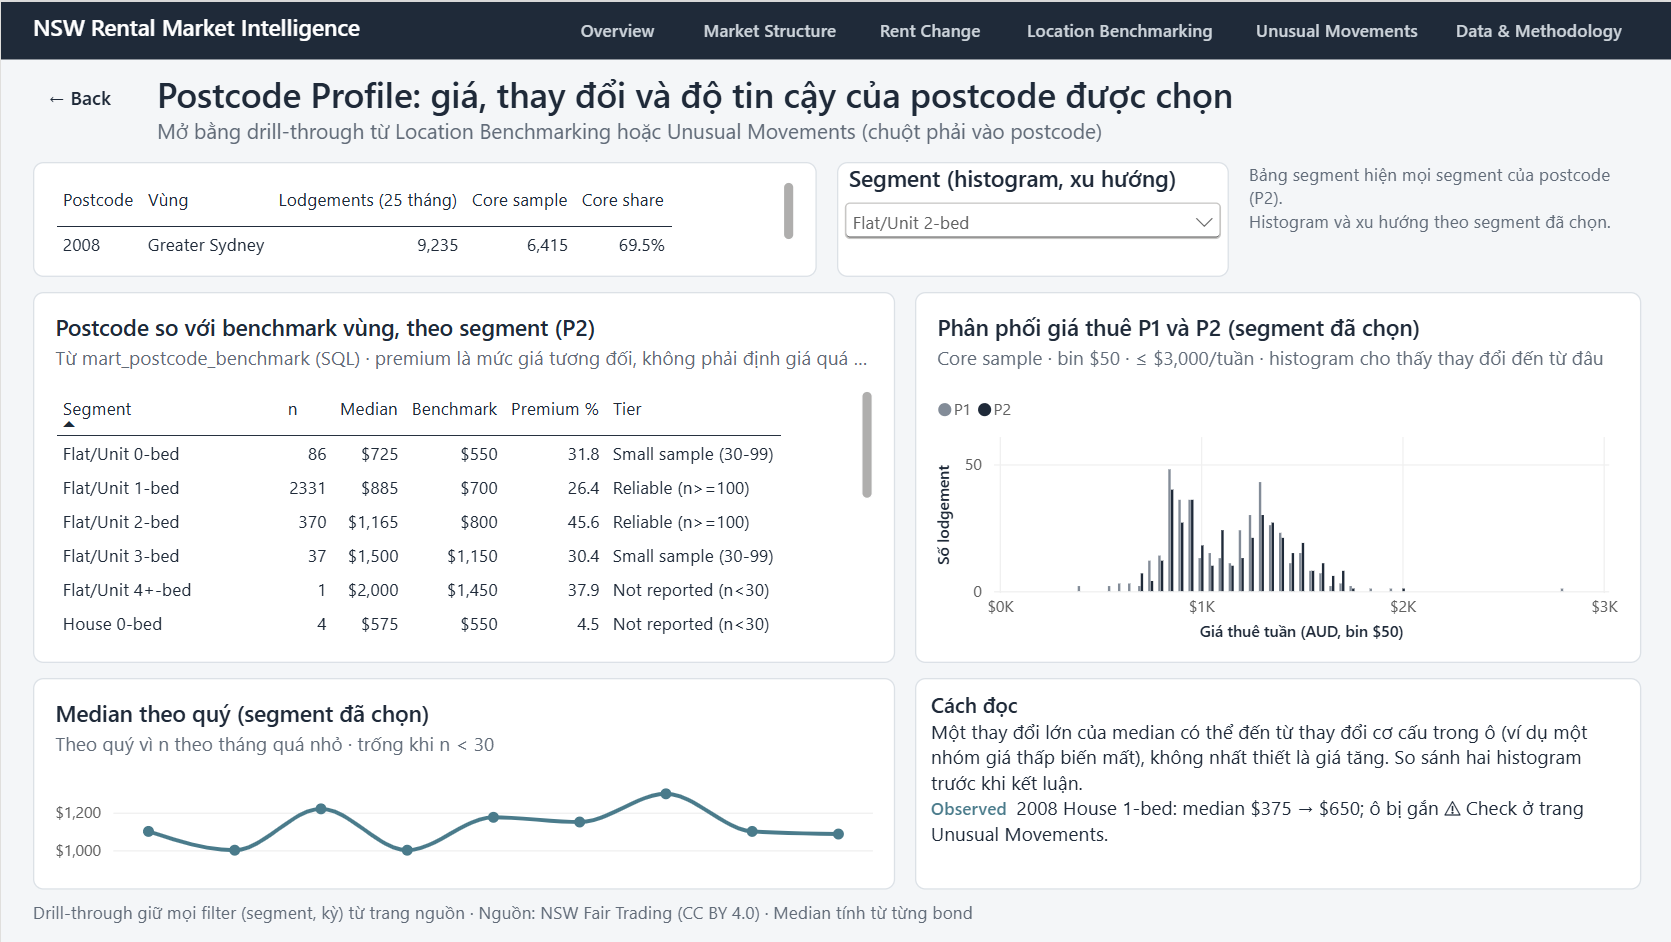

Layout of this report page (visuals, bound fields, positions):
{"tool":"powerbi","page":{"name":"Postcode Profile","canvas":[1280,720],"ordinal":5},"visuals":[{"type":"textbox","box":[0,0,1280,44],"z":1000},{"type":"textbox","box":[24,8,380,30],"z":1001},{"type":"actionButton","box":[424,6,96,32],"z":1002},{"type":"actionButton","box":[520,6,136,32],"z":1002},{"type":"actionButton","box":[656,6,112,32],"z":1002},{"type":"actionButton","box":[768,6,176,32],"z":1002},{"type":"actionButton","box":[944,6,156,32],"z":1002},{"type":"actionButton","box":[1100,6,156,32],"z":1002},{"type":"textbox","box":[120,52,1136,36],"z":2000},{"type":"actionButton","box":[24,56,84,30],"z":2000},{"type":"textbox","box":[120,88,1136,26],"z":2000},{"type":"tableEx","fields":{"Values":["dim_postcode.postcode","dim_postcode.region","fact_lodgements.Lodgements","fact_lodgements.Valid Sample Size","fact_lodgements.Core Share %"]},"box":[24,122,600,88],"z":3000},{"type":"slicer","fields":{"Values":["dim_segment.segment_label"]},"box":[640,122,300,88],"z":3000},{"type":"textbox","box":[956,122,300,88],"z":3000},{"type":"tableEx","title":"Postcode so với benchmark vùng, theo segment (P2)","fields":{"Values":["dim_segment.segment_label","mart_postcode_benchmark.n","mart_postcode_benchmark.median_rent","mart_postcode_benchmark.region_benchmark","mart_postcode_benchmark.premium_pct","mart_postcode_benchmark.reliability"]},"box":[24,222,660,284],"z":4000},{"type":"clusteredColumnChart","title":"Phân phối giá thuê P1 và P2 (segment đã chọn)","fields":{"Category":["fact_lodgements.rent_bin_50"],"Y":["fact_lodgements.Valid Sample P1","fact_lodgements.Valid Sample P2"]},"box":[700,222,556,284],"z":5000},{"type":"lineChart","title":"Median theo quý (segment đã chọn)","fields":{"Category":["dim_date.year_quarter"],"Y":["fact_lodgements.Median Rent (reported)"]},"box":[24,518,660,162],"z":6000},{"type":"textbox","box":[700,518,556,162],"z":7000},{"type":"textbox","box":[712,526,532,146],"z":7001},{"type":"textbox","box":[24,688,1232,26],"z":30000}]}

Visuals, with their boxes in screenshot pixels (x1, y1, x2, y2), scaled from the page's 1280x720 canvas onto the 1671x942 screenshot:
textbox: 0/0/1670/58
textbox: 31/10/527/50
actionButton: 554/8/679/50
actionButton: 679/8/856/50
actionButton: 856/8/1003/50
actionButton: 1003/8/1232/50
actionButton: 1232/8/1436/50
actionButton: 1436/8/1640/50
textbox: 157/68/1640/115
actionButton: 31/73/141/113
textbox: 157/115/1640/149
tableEx - dim_postcode.postcode x dim_postcode.region: 31/160/815/275
slicer - dim_segment.segment_label: 836/160/1227/275
textbox: 1248/160/1640/275
"Postcode so với benchmark vùng, theo segment (P2)" tableEx: 31/290/893/662
"Phân phối giá thuê P1 và P2 (segment đã chọn)" clusteredColumnChart: 914/290/1640/662
"Median theo quý (segment đã chọn)" lineChart: 31/678/893/890
textbox: 914/678/1640/890
textbox: 929/688/1624/879
textbox: 31/900/1640/934
